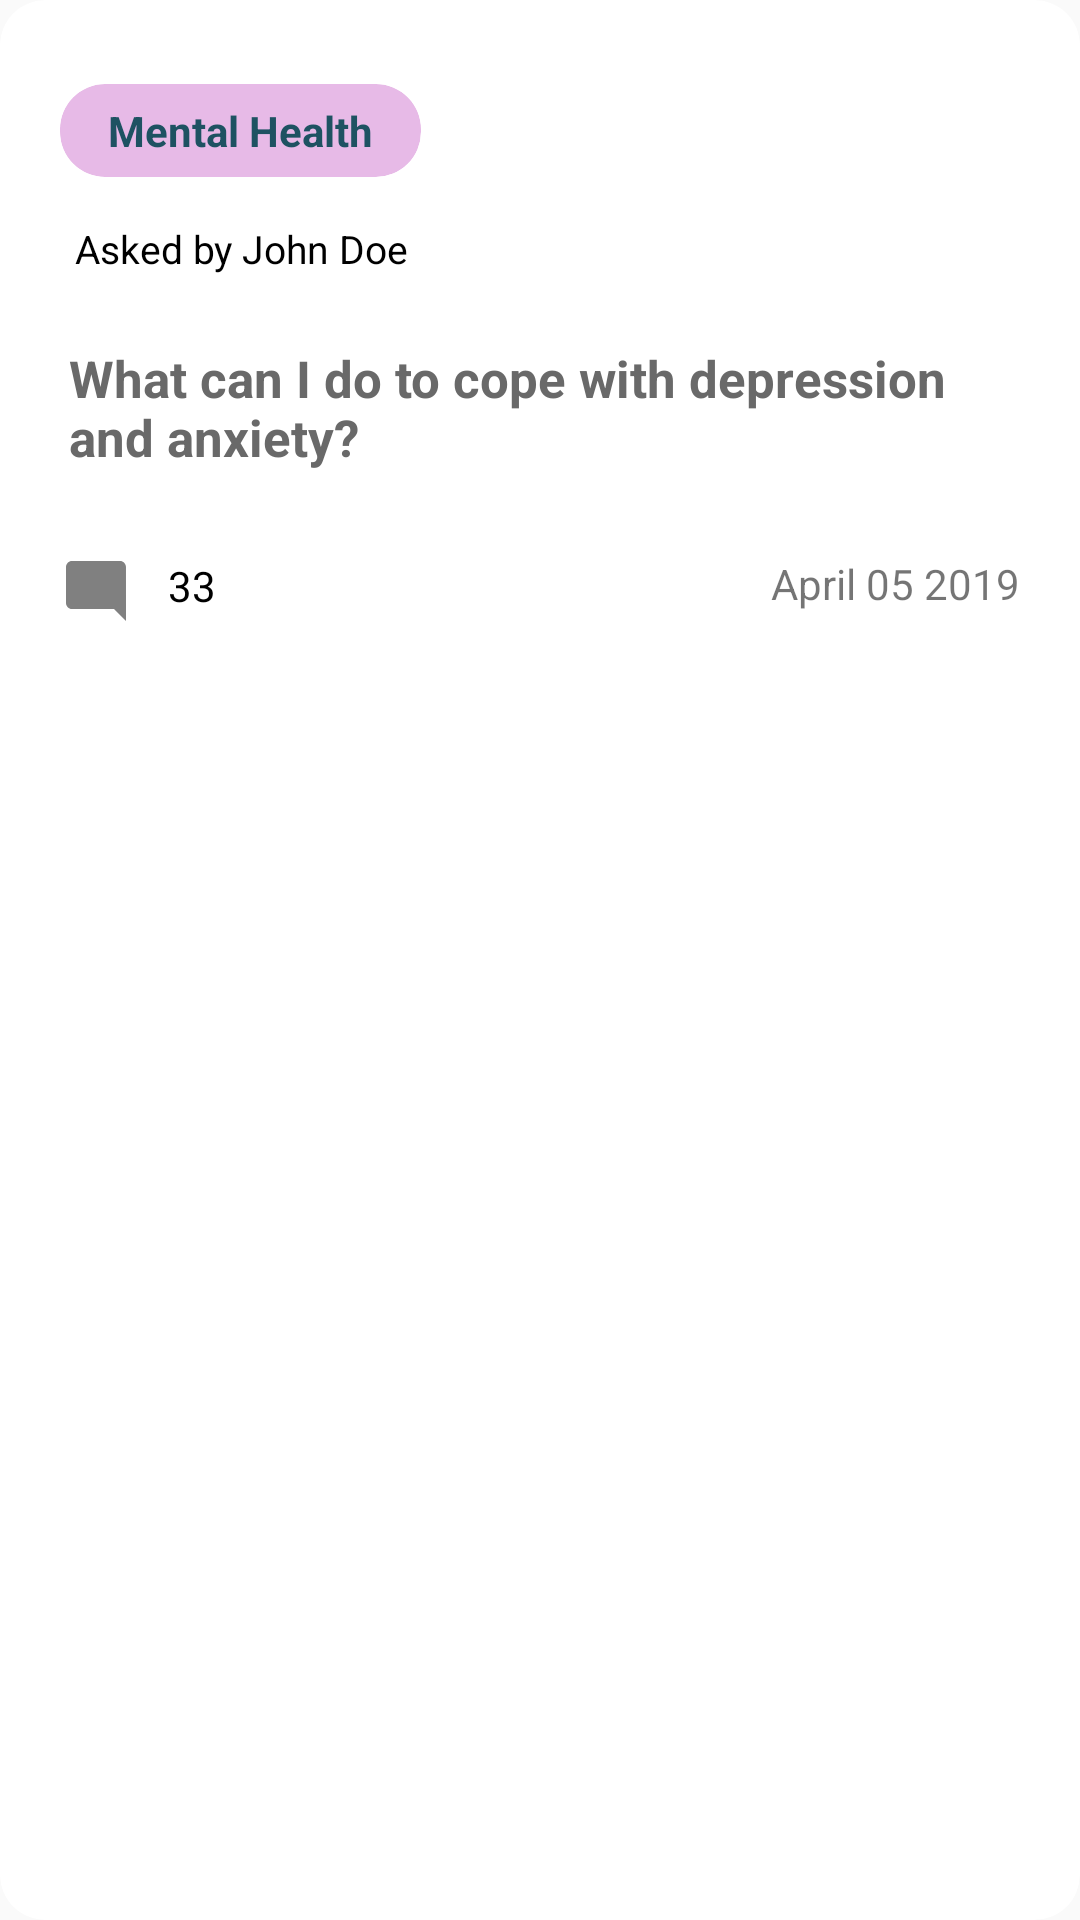

Icons on this 1080px×1920px Android screen, each with the point to tap as point (x, y):
mode comments: point (96, 591)
